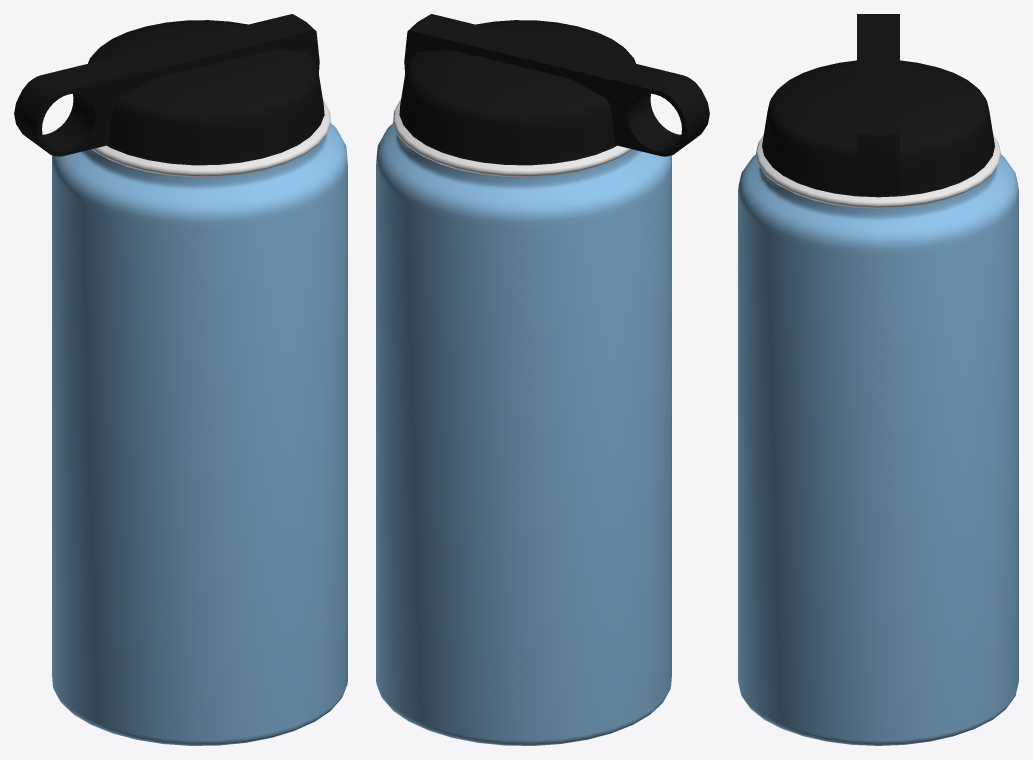
File: WaterBottle.fbx
The picture shows the model from 3 angles, left to right: view 1: azimuth 30°, elevation 25°; view 2: azimuth 150°, elevation 25°; view 3: azimuth 270°, elevation 25°; orthographic projection. The views are drawn at different scales.
Visible parts, largest first — view 1: WaterBottle; view 2: WaterBottle; view 3: WaterBottle.
Boxes of the visible parts, x1=… form: WaterBottle: x1=14, y1=14, x2=347, y2=745; WaterBottle: x1=376, y1=14, x2=709, y2=745; WaterBottle: x1=738, y1=14, x2=1018, y2=745.
Size of what is drawn, in the model's own units: 9.06 by 18.26 by 7.68.
